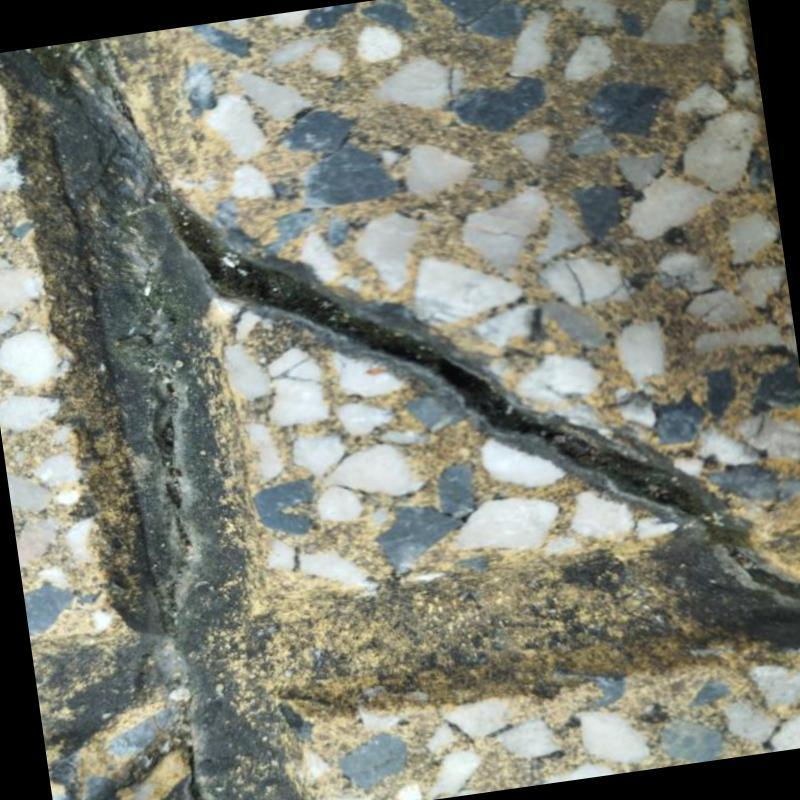crack: (168, 201, 800, 598)
